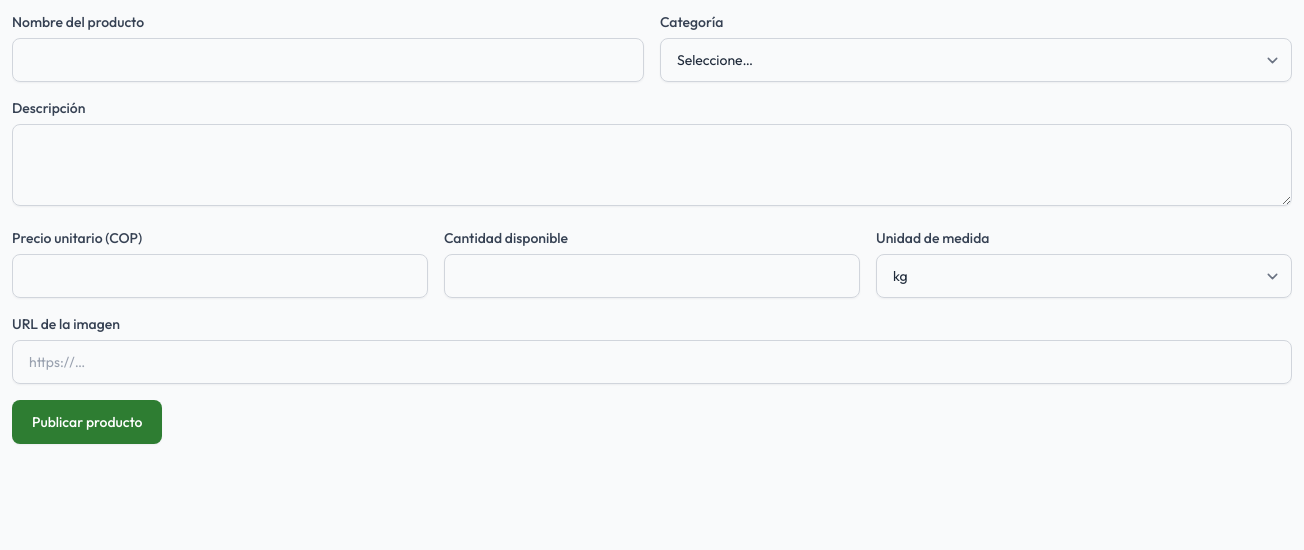
Test case: ProductForm › RTL-05 muestra error si el nombre está vacío
Click the button "Publicar producto": (87, 422) x1=12 y1=400 x2=162 y2=444
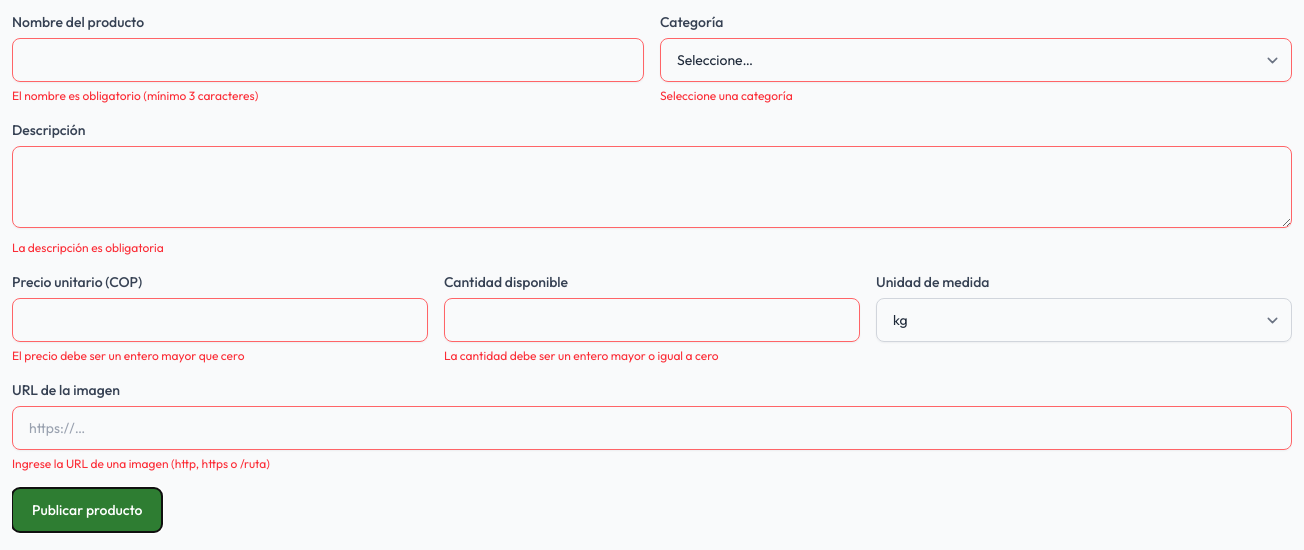
Check: the text "El nombre es obligatorio (mínimo 3 caracteres)" is shown, box x1=12 y1=88 x2=258 y2=103
